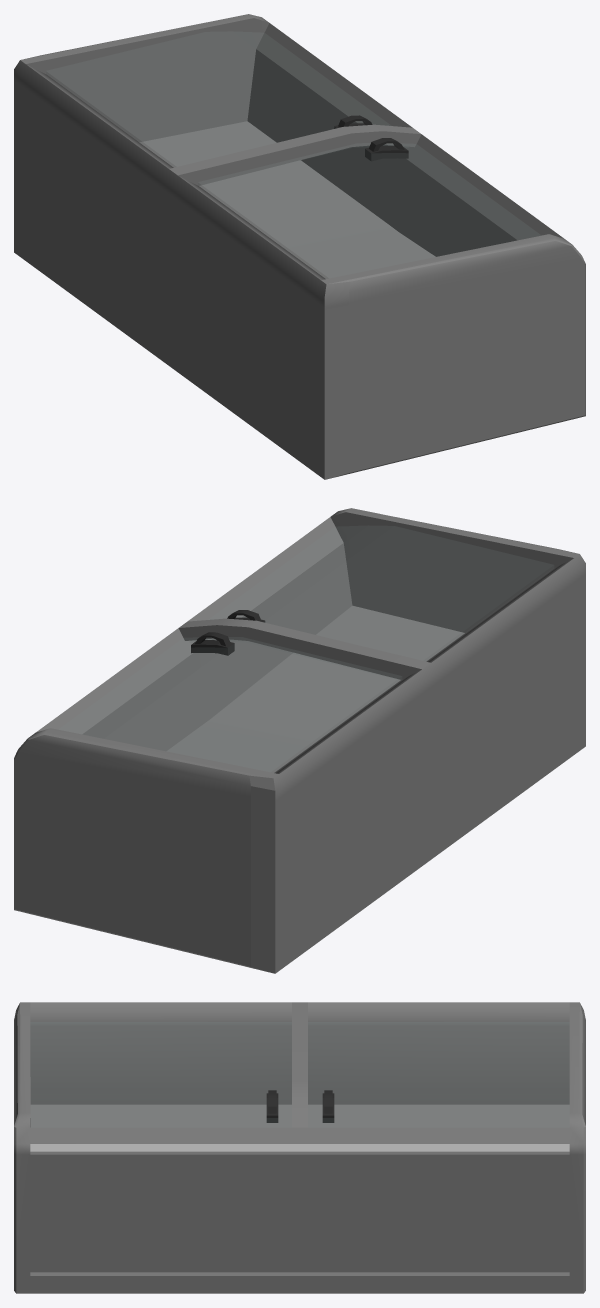
File: BoxFreezer.fbx
3 renders of one model, top to bottom at view 1: azimuth 30°, elevation 25°; view 2: azimuth 150°, elevation 25°; view 3: azimuth 270°, elevation 25°, orthographic. The views are drawn at different scales.
Parts seen in each view (by area): view 1: pCube32; view 2: pCube32; view 3: pCube32.
Part boxes in pixels (x1,y1,x2,y2): pCube32: (14, 14, 585, 479); pCube32: (14, 508, 585, 973); pCube32: (14, 1002, 585, 1293).
Size of the model in its own units: 7.07 by 4.99 by 14.68.
2 materials, 1 textured.
